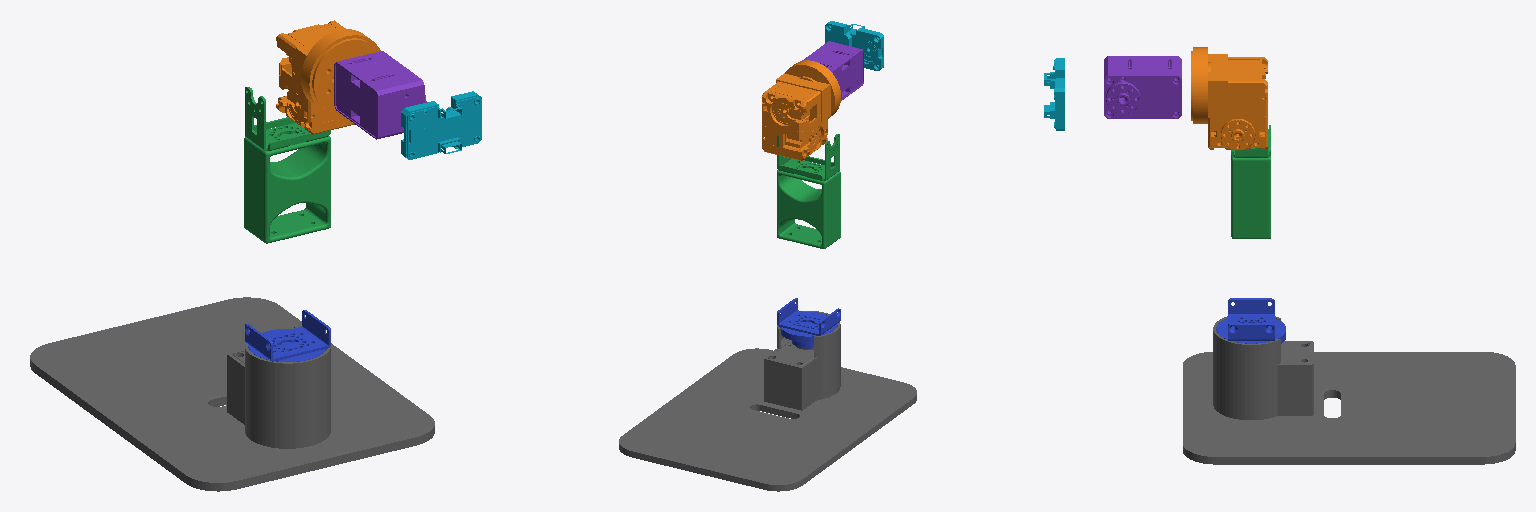
robot.urdf — robot_arm_fusion:
<?xml version="1.0"?>
<robot name="robot_arm_fusion">
  <material name="base_gray"><color rgba="0.45 0.45 0.45 1"/></material>
  <material name="yaw_blue"><color rgba="0.25 0.35 0.85 1"/></material>
  <material name="shoulder_green"><color rgba="0.2 0.65 0.35 1"/></material>
  <material name="upper_orange"><color rgba="0.95 0.55 0.15 1"/></material>
  <material name="forearm_purple"><color rgba="0.55 0.3 0.8 1"/></material>
  <material name="elbow_red"><color rgba="0.85 0.25 0.2 1"/></material>
  <material name="wrist_cyan"><color rgba="0.1 0.7 0.8 1"/></material>

  <link name="base_link">
    <inertial>
      <origin xyz="0 0 0" rpy="0 0 0"/>
      <mass value="0.1"/>
      <inertia ixx="0.0001" ixy="0" ixz="0" iyy="0.0001" iyz="0" izz="0.0001"/>
    </inertial>
    <visual>
      <origin xyz="-0.075 -0.0413 0" rpy="0 -0 0"/>
      <geometry><mesh filename="../cad/exports/fusion_meshes/arm_plate_v2_1.stl" scale="0.001 0.001 0.001"/></geometry>
      <material name="base_gray"/>
    </visual>
    <visual>
      <origin xyz="0.00015 -5e-05 0.022" rpy="-1.57772e-30 2.9525e-15 -3.14159"/>
      <geometry><mesh filename="../cad/exports/fusion_meshes/XM_H-430_idler_1_DUMMY_DC12_1.stl" scale="0.001 0.001 0.001"/></geometry>
      <material name="base_gray"/>
    </visual>
  </link>

  <link name="base_yaw_link">
    <inertial>
      <origin xyz="0 0 0" rpy="0 0 0"/>
      <mass value="0.1"/>
      <inertia ixx="0.0001" ixy="0" ixz="0" iyy="0.0001" iyz="0" izz="0.0001"/>
    </inertial>
    <visual>
      <origin xyz="-4.43239e-34 9.52863e-34 0.055" rpy="-3.14159 -1.21521e-17 -3.14159"/>
      <geometry><mesh filename="../cad/exports/fusion_meshes/arm_thrustA_1.stl" scale="0.001 0.001 0.001"/></geometry>
      <material name="yaw_blue"/>
    </visual>
    <visual>
      <origin xyz="2.56706e-16 1.09555e-16 0.0745" rpy="-3.14159 -2.04493e-15 -3.14159"/>
      <geometry><mesh filename="../cad/exports/fusion_meshes/fr12_s102_k_1.stl" scale="0.001 0.001 0.001"/></geometry>
      <material name="yaw_blue"/>
    </visual>
    <visual>
      <origin xyz="7.66984e-17 1.57737e-16 0.0955" rpy="1.5708 7.13883e-18 1.5708"/>
      <geometry><mesh filename="../cad/exports/fusion_meshes/XM_H-430_idler_2_DUMMY_DC12_1.stl" scale="0.001 0.001 0.001"/></geometry>
      <material name="yaw_blue"/>
    </visual>
  </link>

  <link name="shoulder_pitch_link">
    <inertial>
      <origin xyz="0 0 0" rpy="0 0 0"/>
      <mass value="0.1"/>
      <inertia ixx="0.0001" ixy="0" ixz="0" iyy="0.0001" iyz="0" izz="0.0001"/>
    </inertial>
    <visual>
      <origin xyz="4.36406e-17 1.76033e-16 -5e-05" rpy="1.5708 2.04397e-15 1.17928e-16"/>
      <geometry><mesh filename="../cad/exports/fusion_meshes/fr12_h101_k_1.stl" scale="0.001 0.001 0.001"/></geometry>
      <material name="shoulder_green"/>
    </visual>
    <visual>
      <origin xyz="-0.0205 0.012 0.08195" rpy="0 1.5708 -1.5708"/>
      <geometry><mesh filename="../cad/exports/fusion_meshes/arm_part1_1.stl" scale="0.001 0.001 0.001"/></geometry>
      <material name="shoulder_green"/>
    </visual>
    <visual>
      <origin xyz="-1.79023e-17 -6.00631e-16 0.10995" rpy="-1.5708 1.28606e-16 1.53078e-15"/>
      <geometry><mesh filename="../cad/exports/fusion_meshes/fr12_h101_k_2.stl" scale="0.001 0.001 0.001"/></geometry>
      <material name="shoulder_green"/>
    </visual>
  </link>

  <link name="upper_arm_link">
    <inertial>
      <origin xyz="0 0 0" rpy="0 0 0"/>
      <mass value="0.1"/>
      <inertia ixx="0.0001" ixy="0" ixz="0" iyy="0.0001" iyz="0" izz="0.0001"/>
    </inertial>
    <visual>
      <origin xyz="0.00048 -0.008 0.00625" rpy="1.5708 1.20278e-16 1.65146e-15"/>
      <geometry><mesh filename="../cad/exports/fusion_meshes/2XC-430_1_DC14_A01_REF_1.stl" scale="0.001 0.001 0.001"/></geometry>
      <material name="upper_orange"/>
    </visual>
    <visual>
      <origin xyz="0.016 -0.008 -0.00575" rpy="0 1.5708 -1.5708"/>
      <geometry><mesh filename="../cad/exports/fusion_meshes/2XC-430_1_DC11_A01_HORN_REF_ASM_1_DC11_A01_HORN_REF_1.stl" scale="0.001 0.001 0.001"/></geometry>
      <material name="upper_orange"/>
    </visual>
    <visual>
      <origin xyz="0.00048 -0.02352 0.01825" rpy="0 -1.5708 -3.14159"/>
      <geometry><mesh filename="../cad/exports/fusion_meshes/2XC-430_1_DC11_A01_HORN_REF_ASM_2_DC11_A01_HORN_REF_1.stl" scale="0.001 0.001 0.001"/></geometry>
      <material name="upper_orange"/>
    </visual>
    <visual>
      <origin xyz="0.00058 -0.026 0.01824" rpy="1.5708 1.20278e-16 1.65146e-15"/>
      <geometry><mesh filename="../cad/exports/fusion_meshes/arm_thrustC_1.stl" scale="0.001 0.001 0.001"/></geometry>
      <material name="upper_orange"/>
    </visual>
    <visual>
      <origin xyz="0.00048 -0.03652 0.01825" rpy="-1.5708 -4.91456e-16 4.01944e-15"/>
      <geometry><mesh filename="../cad/exports/fusion_meshes/arm_thrustB_1.stl" scale="0.001 0.001 0.001"/></geometry>
      <material name="upper_orange"/>
    </visual>
    <visual>
      <origin xyz="0.00048 -0.05602 0.01825" rpy="-1.5708 -4.91456e-16 4.23541e-15"/>
      <geometry><mesh filename="../cad/exports/fusion_meshes/fr12_s102_k_2.stl" scale="0.001 0.001 0.001"/></geometry>
      <material name="upper_orange"/>
    </visual>
  </link>

  <link name="forearm_link">
    <inertial>
      <origin xyz="0 0 0" rpy="0 0 0"/>
      <mass value="0.1"/>
      <inertia ixx="0.0001" ixy="0" ixz="0" iyy="0.0001" iyz="0" izz="0.0001"/>
    </inertial>
    <visual>
      <origin xyz="-0.01142 -0.00992 -0.00445" rpy="0 -1.5708 -3.14159"/>
      <geometry><mesh filename="../cad/exports/fusion_meshes/XC-430_idle_1_DC11_B01_CASE_M_DUMMY_1.stl" scale="0.001 0.001 0.001"/></geometry>
      <material name="forearm_purple"/>
    </visual>
    <visual>
      <origin xyz="-0.01142 -0.00992 -0.00445" rpy="0 -1.5708 -3.14159"/>
      <geometry><mesh filename="../cad/exports/fusion_meshes/XC-430_idle_1_DC11_B01_CASE_F_DUMMY_1.stl" scale="0.001 0.001 0.001"/></geometry>
      <material name="forearm_purple"/>
    </visual>
    <visual>
      <origin xyz="-0.01142 -0.00992 -0.00445" rpy="0 -1.5708 -3.14159"/>
      <geometry><mesh filename="../cad/exports/fusion_meshes/XC-430_idle_1_DC11_B01_CASE_B_DUMMY2_1.stl" scale="0.001 0.001 0.001"/></geometry>
      <material name="forearm_purple"/>
    </visual>
    <visual>
      <origin xyz="0.00408 -0.00992 -0.00445" rpy="4.92709e-16 7.77156e-16 -1.5708"/>
      <geometry><mesh filename="../cad/exports/fusion_meshes/XC-430_idle_1_M_DC11_A01_HORN_ASM_1_M_DC11_A01_HORN_1.stl" scale="0.001 0.001 0.001"/></geometry>
      <material name="forearm_purple"/>
    </visual>
    <visual>
      <origin xyz="-0.03192 -0.03792 -0.01645" rpy="1.5708 -3.70721e-16 5.39809e-15"/>
      <geometry><mesh filename="../cad/exports/fusion_meshes/arm_hand_v2_1.stl" scale="0.001 0.001 0.001"/></geometry>
      <material name="forearm_purple"/>
    </visual>
    <visual>
      <origin xyz="-0.01142 -0.00992 -0.00445" rpy="-8.18789e-16 4.93185e-16 -3.14159"/>
      <geometry><mesh filename="../cad/exports/fusion_meshes/fr12_h101_k_3.stl" scale="0.001 0.001 0.001"/></geometry>
      <material name="forearm_purple"/>
    </visual>
  </link>

  <link name="elbow_roll_link">
    <inertial>
      <origin xyz="0 0 0" rpy="0 0 0"/>
      <mass value="0.1"/>
      <inertia ixx="0.0001" ixy="0" ixz="0" iyy="0.0001" iyz="0" izz="0.0001"/>
    </inertial>
  </link>

  <link name="wrist_pitch_link">
    <inertial>
      <origin xyz="0 0 0" rpy="0 0 0"/>
      <mass value="0.1"/>
      <inertia ixx="0.0001" ixy="0" ixz="0" iyy="0.0001" iyz="0" izz="0.0001"/>
    </inertial>
    <visual>
      <origin xyz="-0.00732 -0.00202 -0.00855" rpy="0 -1.5708 1.5708"/>
      <geometry><mesh filename="../cad/exports/fusion_meshes/XC-430_idle_2_DC11_B01_CASE_M_DUMMY_1.stl" scale="0.001 0.001 0.001"/></geometry>
      <material name="wrist_cyan"/>
    </visual>
    <visual>
      <origin xyz="-0.00732 -0.00202 -0.00855" rpy="0 -1.5708 1.5708"/>
      <geometry><mesh filename="../cad/exports/fusion_meshes/XC-430_idle_2_DC11_B01_CASE_F_DUMMY_1.stl" scale="0.001 0.001 0.001"/></geometry>
      <material name="wrist_cyan"/>
    </visual>
    <visual>
      <origin xyz="-0.00732 -0.00202 -0.00855" rpy="0 -1.5708 1.5708"/>
      <geometry><mesh filename="../cad/exports/fusion_meshes/XC-430_idle_2_DC11_B01_CASE_B_DUMMY2_1.stl" scale="0.001 0.001 0.001"/></geometry>
      <material name="wrist_cyan"/>
    </visual>
    <visual>
      <origin xyz="-0.00732 -0.01752 -0.00855" rpy="-3.33067e-16 -1.44018e-15 -3.14159"/>
      <geometry><mesh filename="../cad/exports/fusion_meshes/XC-430_idle_2_M_DC11_A01_HORN_ASM_1_M_DC11_A01_HORN_1.stl" scale="0.001 0.001 0.001"/></geometry>
      <material name="wrist_cyan"/>
    </visual>
  </link>

  <joint name="base_yaw_joint" type="revolute">
    <parent link="base_link"/>
    <child link="base_yaw_link"/>
    <origin xyz="0 0 0" rpy="0 0 0"/>
    <axis xyz="0 0 1"/>
    <limit lower="-3.14159" upper="3.14159" effort="2.0" velocity="1.0"/>
  </joint>

  <joint name="shoulder_pitch_joint" type="revolute">
    <parent link="base_yaw_link"/>
    <child link="shoulder_pitch_link"/>
    <origin xyz="0 0 0.0955" rpy="0 0 0"/>
    <axis xyz="1 0 0"/>
    <limit lower="-1.5708" upper="1.5708" effort="2.0" velocity="1.0"/>
  </joint>

  <joint name="elbow_pitch_joint" type="revolute">
    <parent link="shoulder_pitch_link"/>
    <child link="upper_arm_link"/>
    <origin xyz="0.0155 0 0.10995" rpy="0 0 0"/>
    <axis xyz="1 0 0"/>
    <limit lower="-1.5708" upper="1.5708" effort="2.0" velocity="1.0"/>
  </joint>

  <joint name="upper_arm_roll_joint" type="revolute">
    <parent link="upper_arm_link"/>
    <child link="forearm_link"/>
    <origin xyz="0.0119 -0.0671 0.0227" rpy="0 0 0"/>
    <axis xyz="0 0 -1"/>
    <limit lower="-1.5708" upper="1.5708" effort="2.0" velocity="1.0"/>
  </joint>

  <joint name="elbow_roll_joint" type="revolute">
    <parent link="forearm_link"/>
    <child link="elbow_roll_link"/>
    <origin xyz="-0.0078 -0.0004 0" rpy="0 0 0"/>
    <axis xyz="-1 0 0"/>
    <limit lower="-1.5708" upper="1.5708" effort="2.0" velocity="1.0"/>
  </joint>

  <joint name="wrist_pitch_joint" type="revolute">
    <parent link="elbow_roll_link"/>
    <child link="wrist_pitch_link"/>
    <origin xyz="0.0037 -0.0595 0.0041" rpy="0 0 0"/>
    <axis xyz="0 1 0"/>
    <limit lower="-1.5708" upper="1.5708" effort="2.0" velocity="1.0"/>
  </joint>

</robot>

--- What the picture shows (computed from the rendered views, not written in the file) ---
Views: 3 orthographic renders of the robot side by side, from view 1: azimuth 30°, elevation 25°; view 2: azimuth 150°, elevation 25°; view 3: azimuth 270°, elevation 25°.
Robot: robot_arm_fusion — 7 links, 6 joints (6 revolute); root link base_link; default pose: all joints at 0.
Visible links, largest first — view 1: base_link, shoulder_pitch_link, upper_arm_link, forearm_link, wrist_pitch_link, base_yaw_link; view 2: base_link, upper_arm_link, shoulder_pitch_link, base_yaw_link, forearm_link, wrist_pitch_link; view 3: base_link, upper_arm_link, forearm_link, shoulder_pitch_link, base_yaw_link, wrist_pitch_link.
Link boxes in pixels (x1,y1,x2,y2): base_link: (30,297,434,491); shoulder_pitch_link: (244,87,330,243); upper_arm_link: (276,20,380,134); forearm_link: (334,51,426,139); wrist_pitch_link: (401,91,481,159); base_yaw_link: (245,310,330,361); base_link: (619,311,916,491); upper_arm_link: (762,60,840,160); shoulder_pitch_link: (777,134,840,248); base_yaw_link: (777,298,840,348); forearm_link: (802,41,863,100); wrist_pitch_link: (825,21,883,70); base_link: (1183,316,1515,464); upper_arm_link: (1191,47,1267,150); forearm_link: (1104,56,1181,118); shoulder_pitch_link: (1231,125,1270,238); base_yaw_link: (1216,298,1285,343); wrist_pitch_link: (1044,58,1064,130).
Bounding box of the posed robot: 0.15 × 0.283 × 0.2467 m (x, y, z).
Meshes: 24 distinct files referenced, 14 mesh visuals loaded (14 binary STL); not drawn: 10 (reference not matched to a file when rendering).
